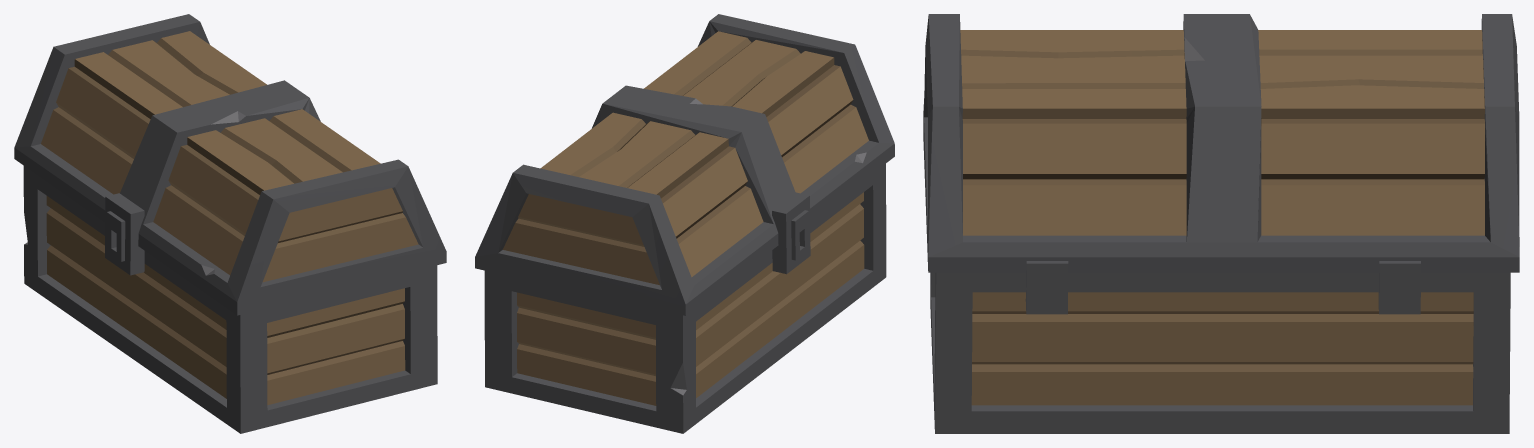
Rendered from chest4.glb.
3 renders of one model, left to right at view 1: azimuth 30°, elevation 25°; view 2: azimuth 150°, elevation 25°; view 3: azimuth 270°, elevation 25°, orthographic. The views are drawn at different scales.
Parts seen in each view (by area): view 1: chest; view 2: chest; view 3: chest.
Boxes of the visible parts, left/top/right/bottom form: chest: left=14, top=14, right=446, bottom=433; chest: left=475, top=14, right=894, bottom=433; chest: left=923, top=14, right=1519, bottom=433.
Bounding box in the file's own units: 0.7382 × 0.7062 × 1.22.
2 materials, 2 textured.
